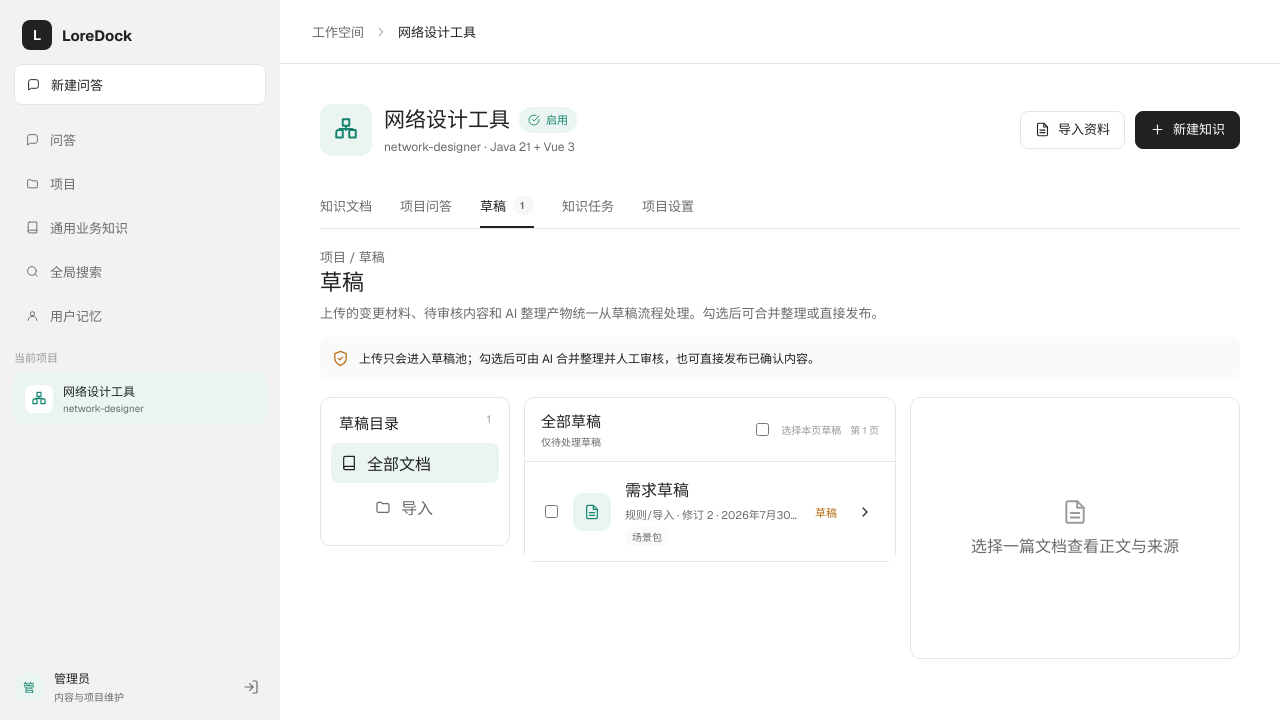
KnowledgeWorkspaceView › shows the stable service error when merge startup fails
Step 1. Click the checkbox with test id "select-all-drafts" → (763, 430), box [756,423,769,436]
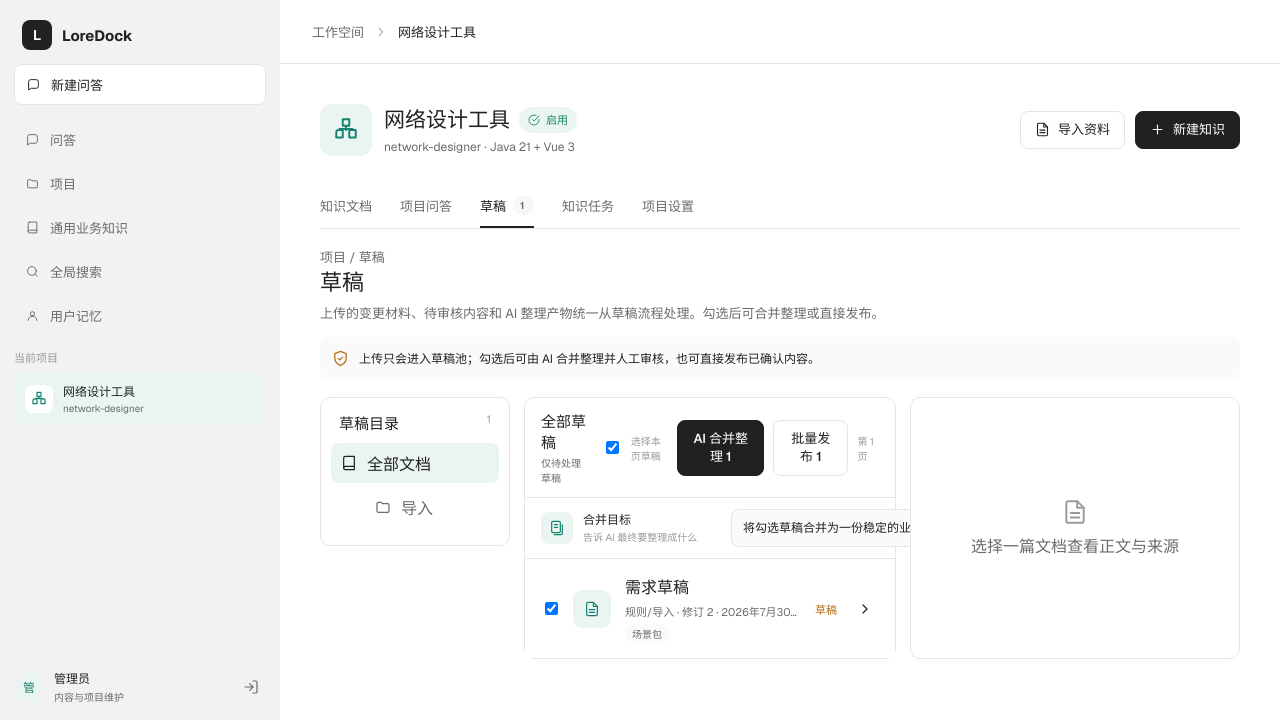
Step 2. Click the button with test id "merge-selected-drafts" → (721, 448), box [677,420,764,476]
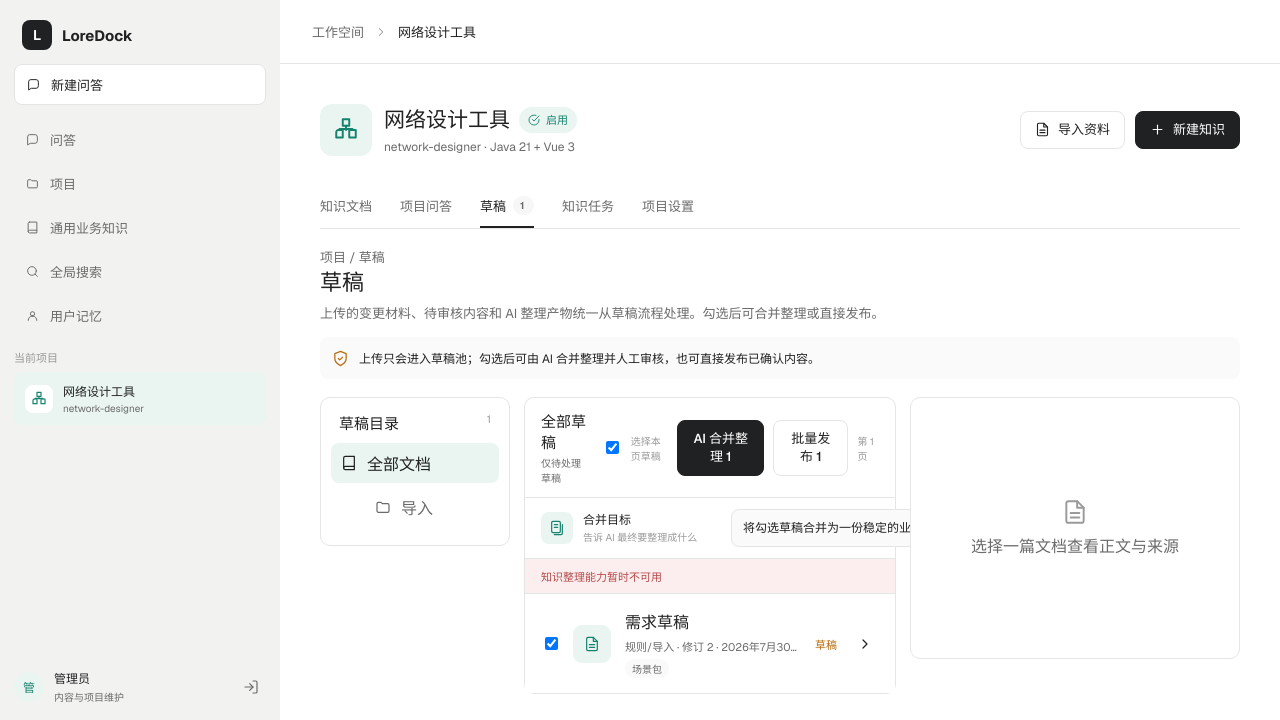
expect the message with test id "merge-message" reads "知识整理能力暂时不可用": met, box [541,570,662,584]
